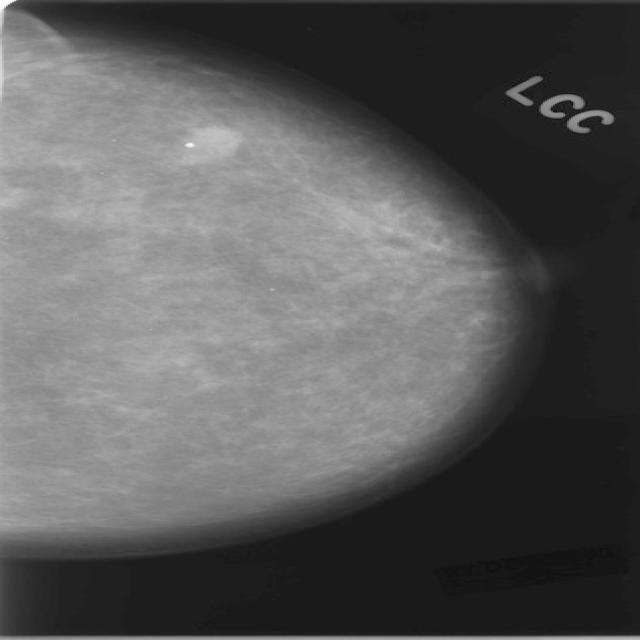tumour: (174, 126, 239, 166)
